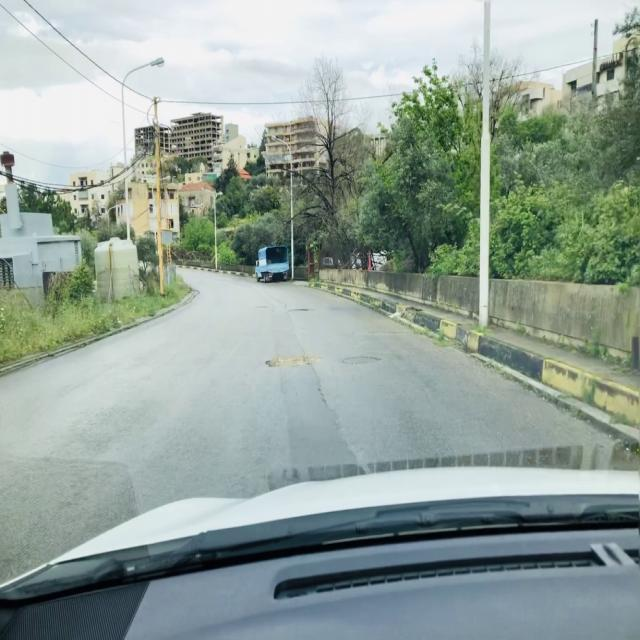Pothole: (264, 353, 323, 369)
